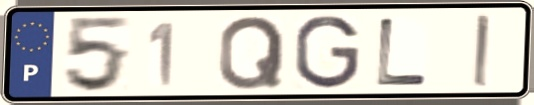1: (145, 19, 175, 87)
5: (63, 15, 135, 94)
G: (292, 13, 362, 91)
I: (470, 12, 493, 89)
L: (373, 16, 433, 88)
Q: (215, 13, 288, 92)
